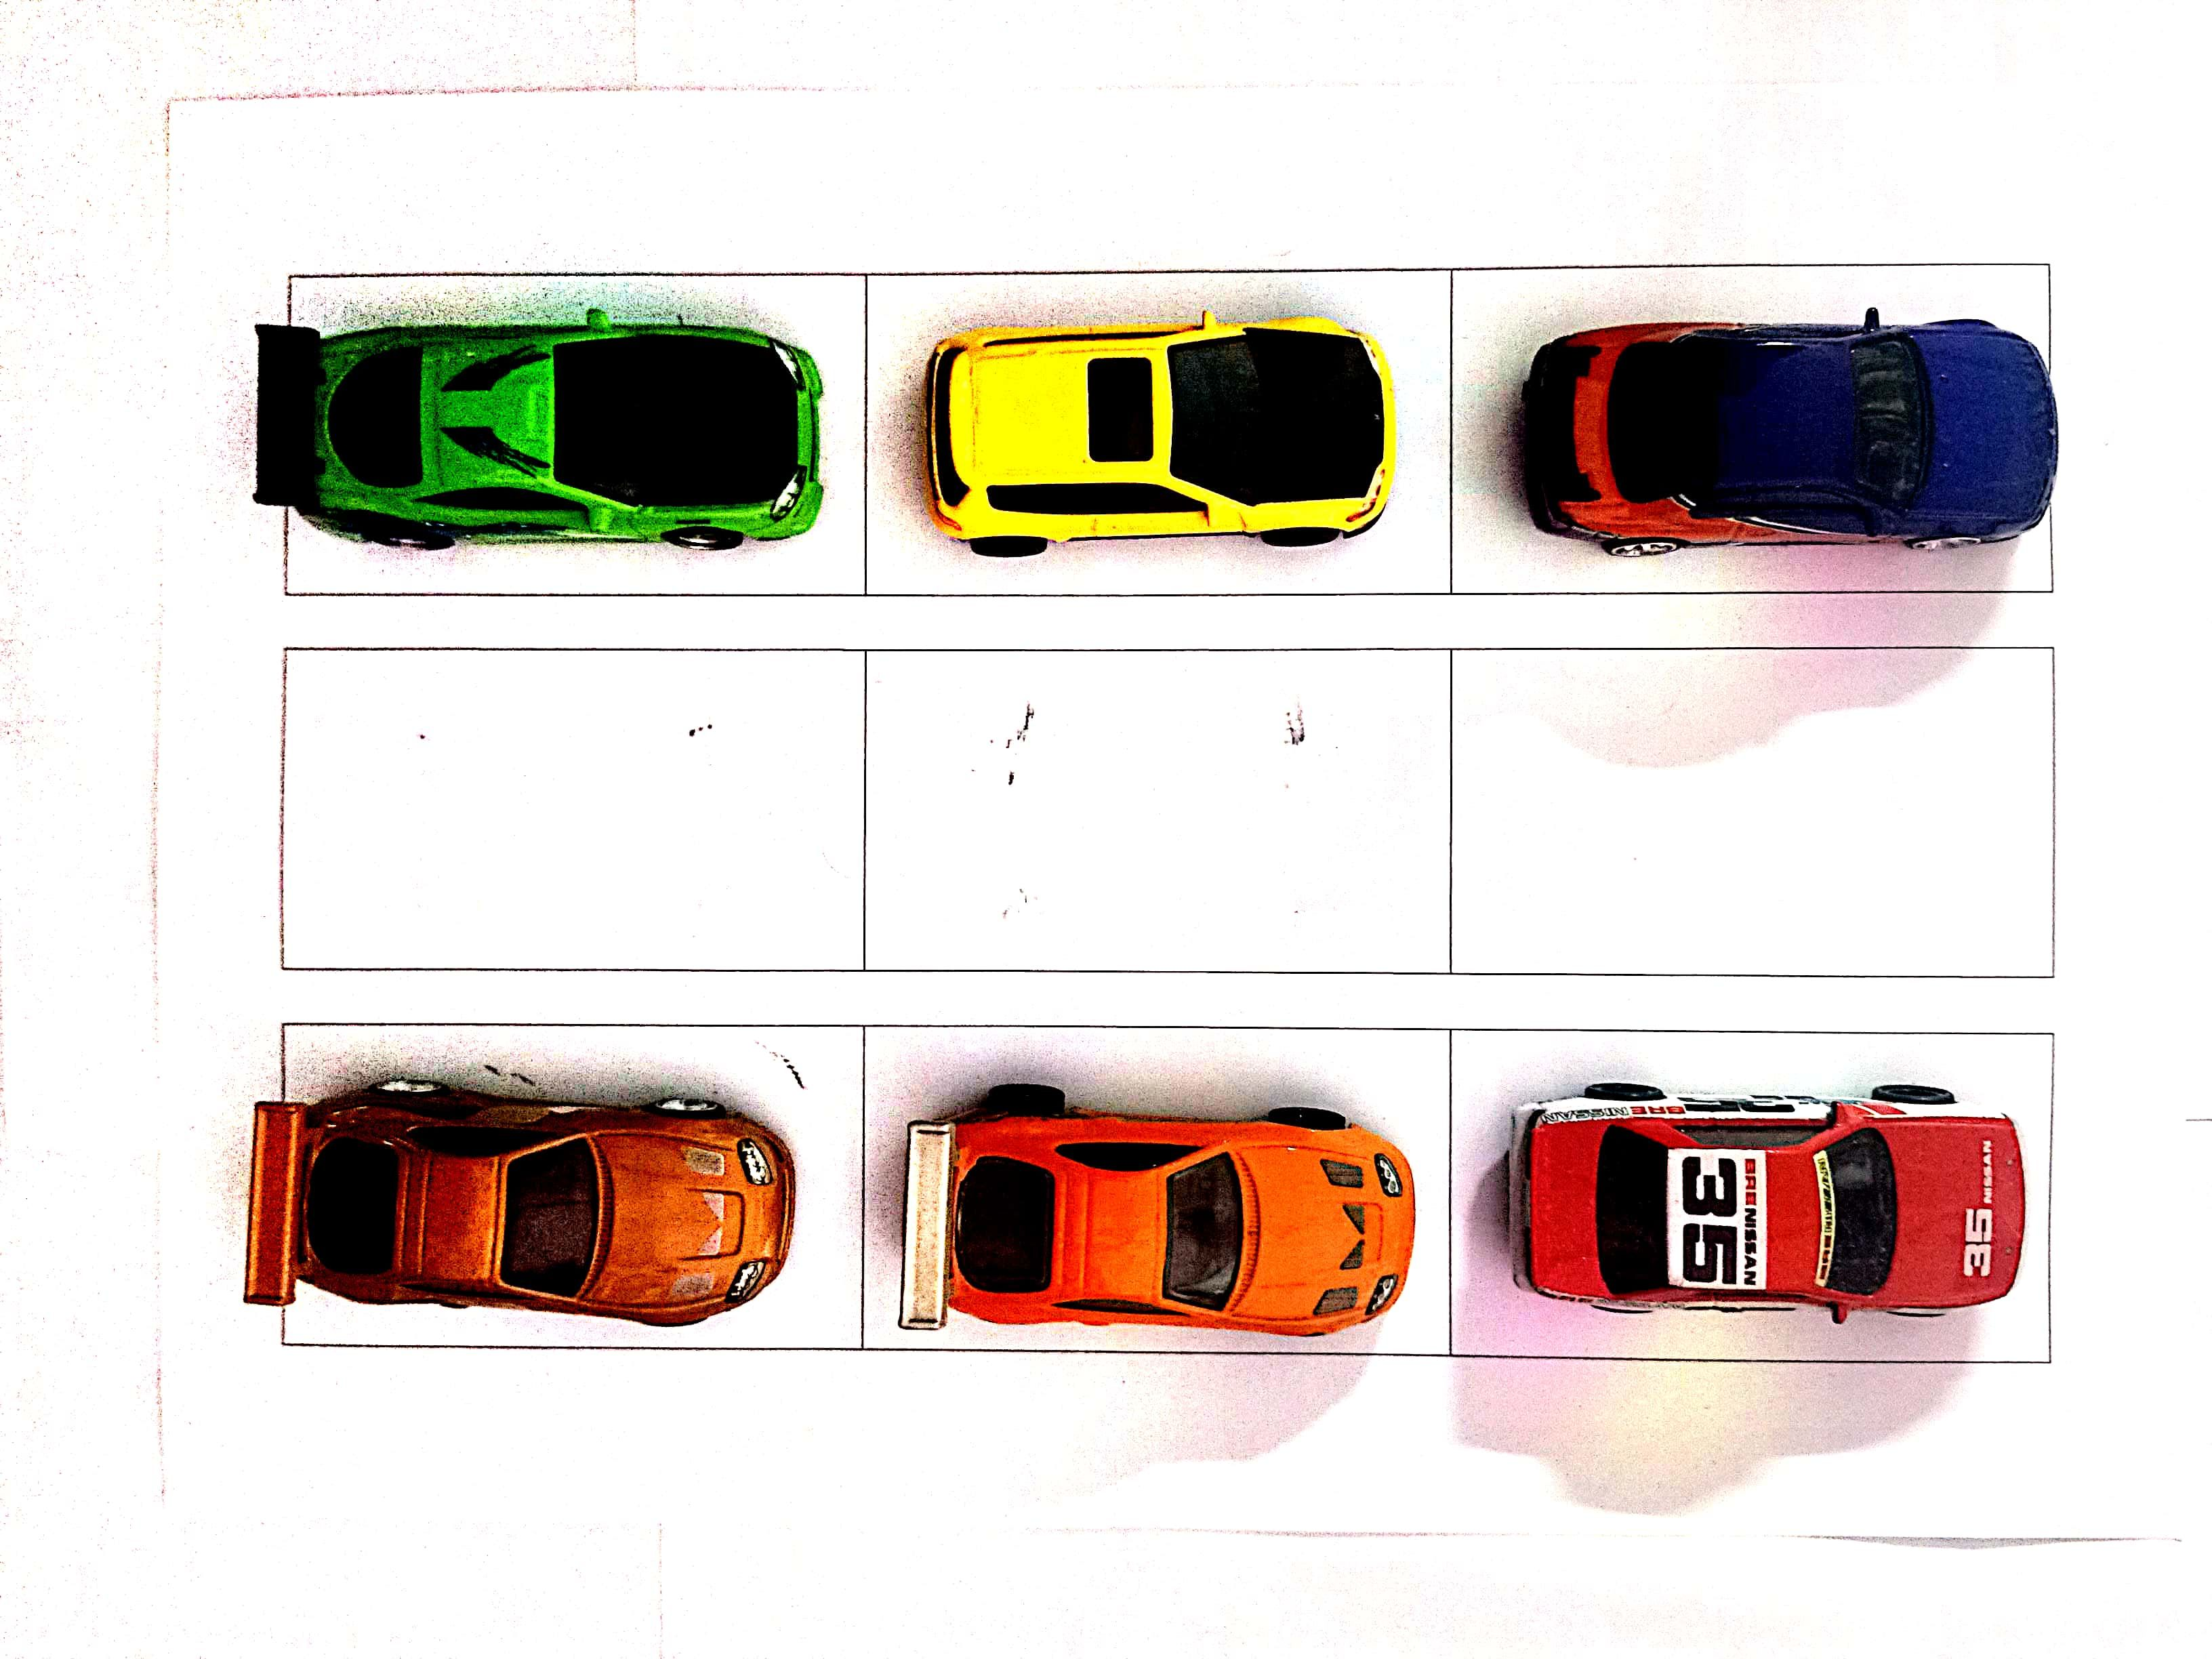Busy: (1446, 1037, 2059, 1358), (1446, 270, 2050, 589), (862, 1028, 1446, 1351), (860, 272, 1446, 593), (286, 275, 862, 593), (286, 1026, 860, 1342)
Free: (1449, 650, 2050, 967), (871, 650, 1451, 971), (279, 650, 862, 967)
